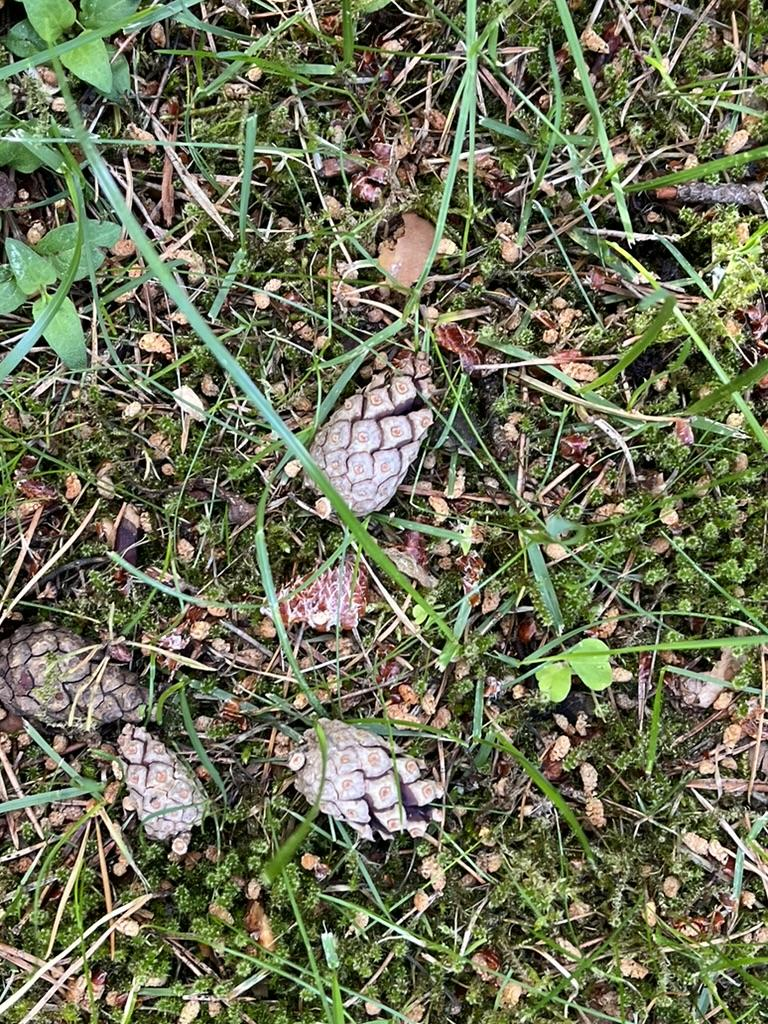pine: (288, 343, 454, 538), (261, 706, 456, 856), (0, 603, 158, 740), (111, 723, 224, 863)
